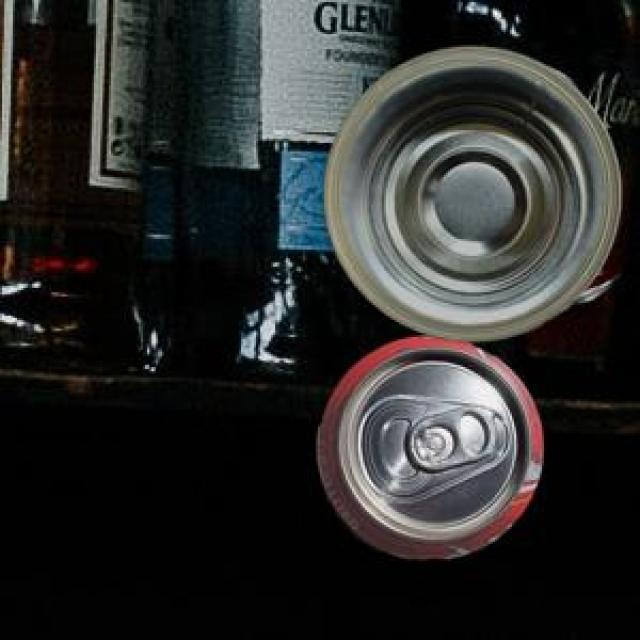Can: (321, 44, 618, 338), (313, 332, 541, 556), (566, 238, 618, 302)
